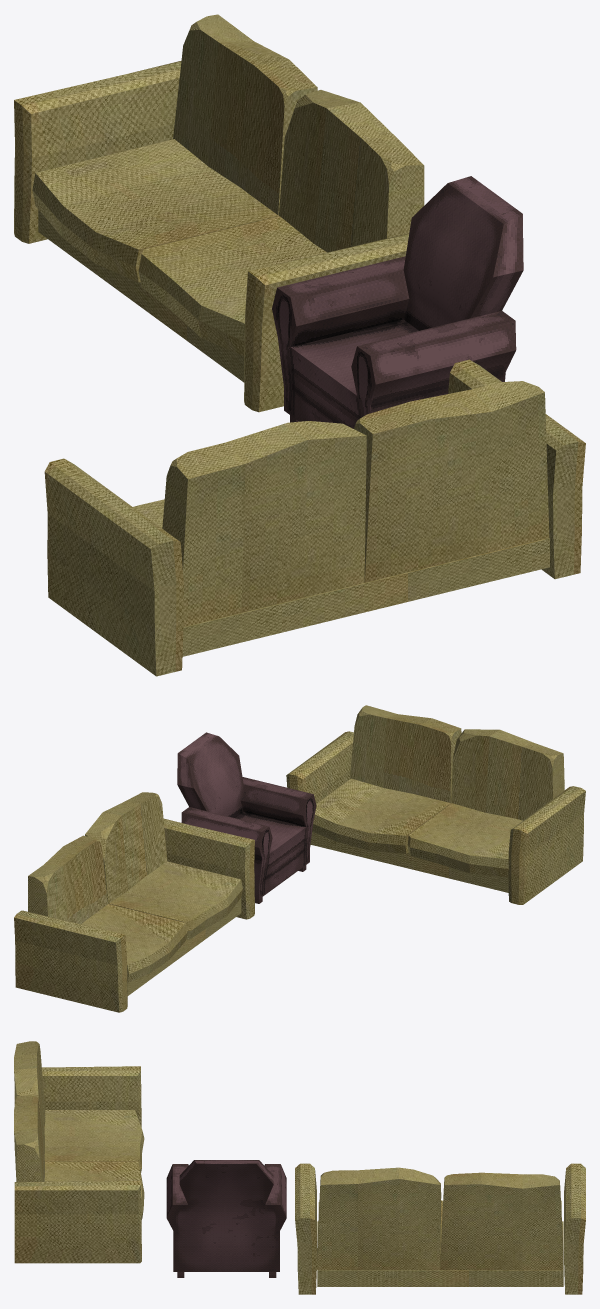
The model's file is sofas and armchair.glb.
The picture shows the model from 3 angles, top to bottom: view 1: azimuth 30°, elevation 25°; view 2: azimuth 150°, elevation 25°; view 3: azimuth 270°, elevation 25°; orthographic projection. The views are drawn at different scales.
Parts seen in each view (by area): view 1: sofa.001, sofa, SM_Armchair; view 2: sofa.001, sofa, SM_Armchair; view 3: sofa, sofa.001, SM_Armchair.
Part boxes in pixels (<box>): sofa.001: <box>44,359,585,676</box>; sofa: <box>14,14,424,412</box>; SM_Armchair: <box>272,176,523,428</box>; sofa.001: <box>286,705,585,904</box>; sofa: <box>14,792,254,1012</box>; SM_Armchair: <box>177,732,316,903</box>; sofa: <box>295,1163,585,1294</box>; sofa.001: <box>14,1041,144,1263</box>; SM_Armchair: <box>166,1160,286,1277</box>.
Bounding box in the file's own units: 3.35 × 1.3 × 5.3.
Materials: 2 (2 with a texture image).
